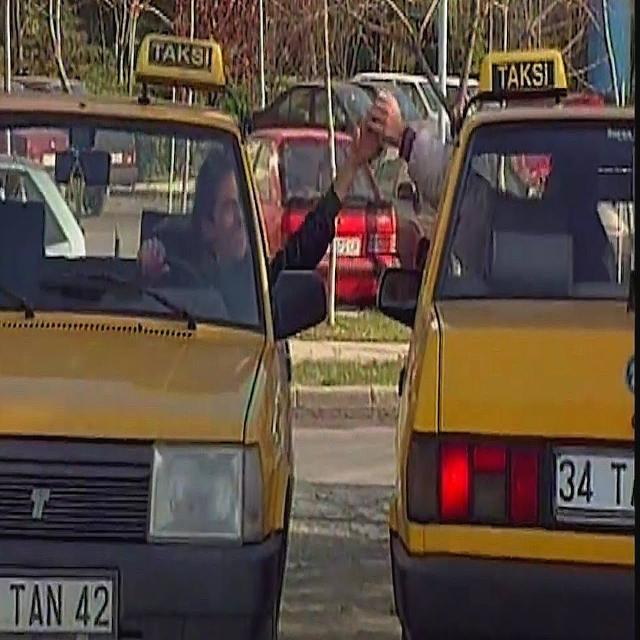car: (0, 34, 326, 639), (378, 50, 634, 639), (248, 128, 331, 255), (0, 156, 85, 257), (375, 148, 435, 271), (353, 72, 440, 119), (252, 81, 328, 129), (353, 80, 428, 127), (95, 132, 137, 190)
